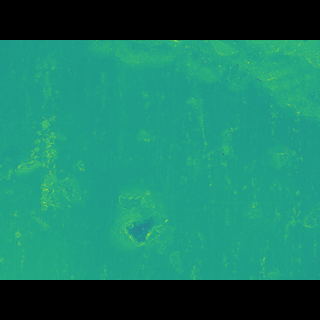Loch: (85, 67, 319, 133), (8, 79, 89, 199), (104, 181, 171, 228)
